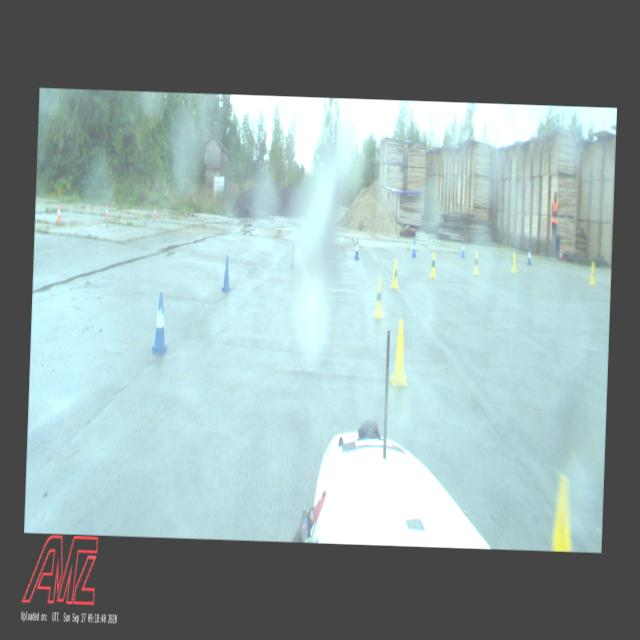blue_cone: (150, 291, 170, 351), (222, 254, 232, 290), (288, 241, 296, 269), (354, 238, 359, 258), (411, 236, 416, 256), (526, 248, 532, 264), (460, 240, 464, 258)
orange_cone: (56, 204, 61, 222), (152, 204, 157, 219), (104, 203, 108, 220)
yellow_cone: (548, 474, 575, 550), (390, 318, 410, 386), (372, 277, 385, 318), (389, 259, 398, 288), (588, 262, 596, 286), (430, 252, 436, 276), (509, 252, 516, 272), (472, 251, 478, 274)
